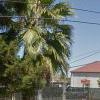Palm tree: (3, 2, 75, 100)
